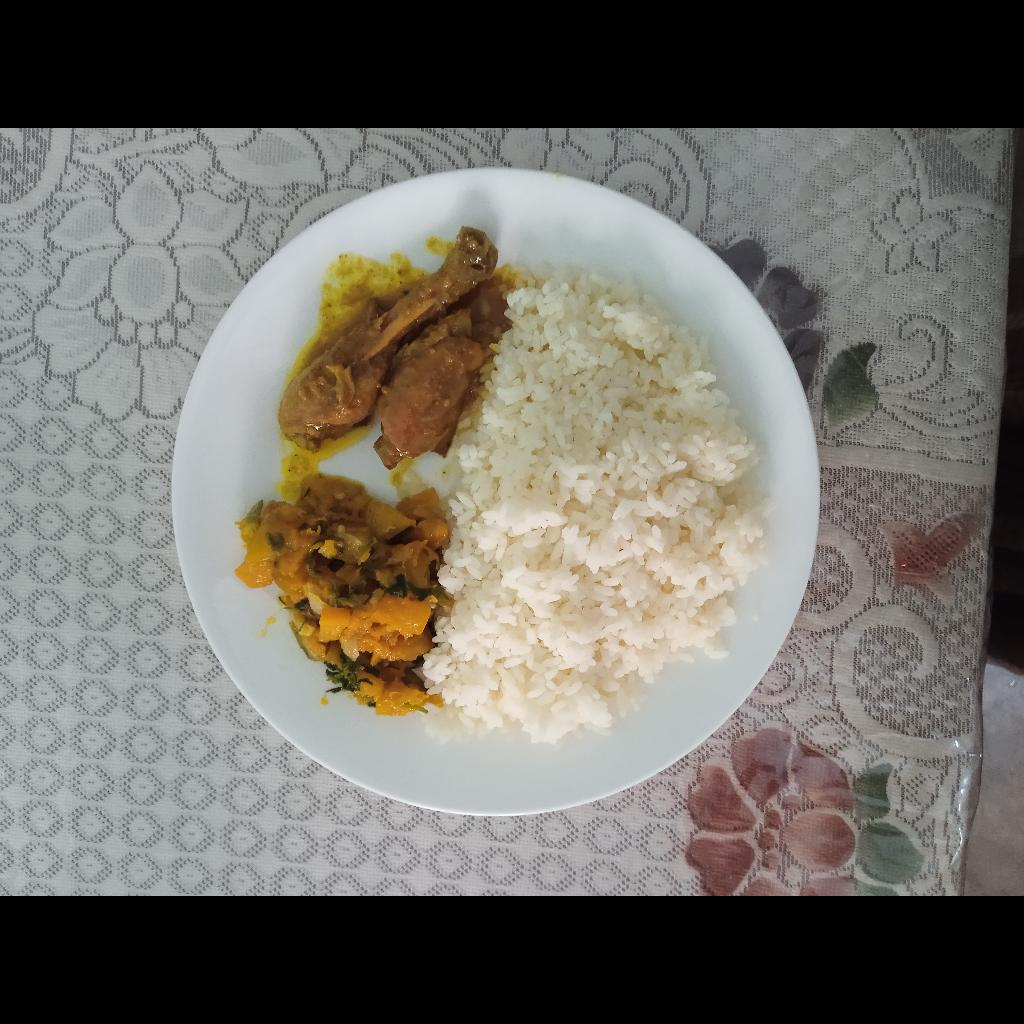chicken: (278, 226, 499, 471)
kumra-vaji: (234, 476, 448, 716)
rice: (417, 264, 782, 744)
